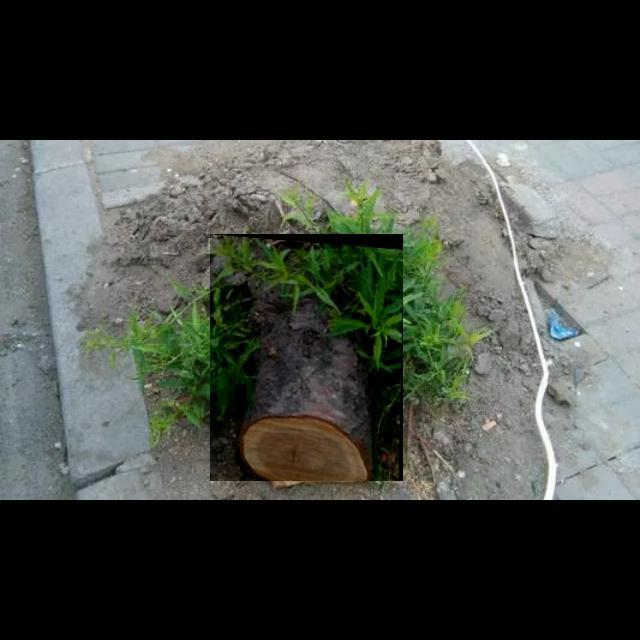fallen_tree: (210, 234, 404, 482)
